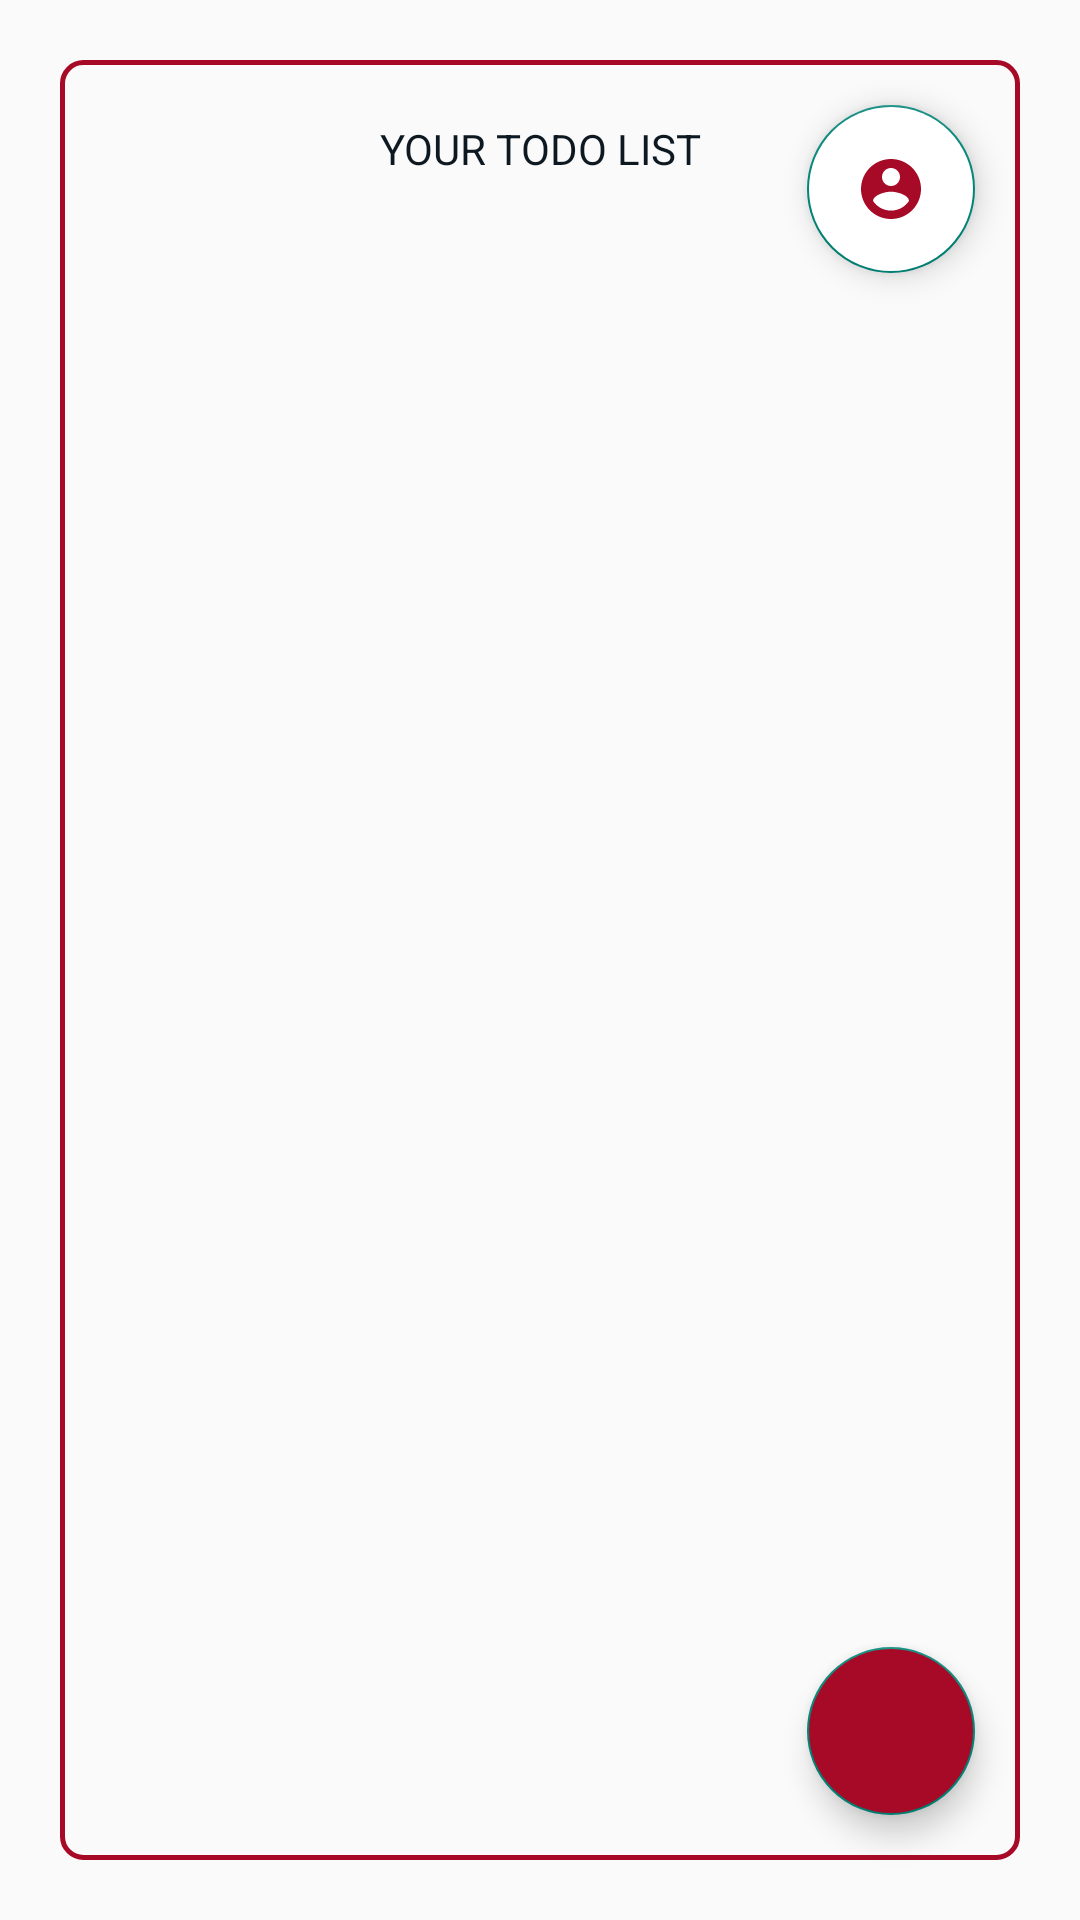

Screen size 1080 x 1920. Icon name, then its box in pixels as (x1, y1, x2, y2):
Manage your account button: (807, 105, 975, 273)
